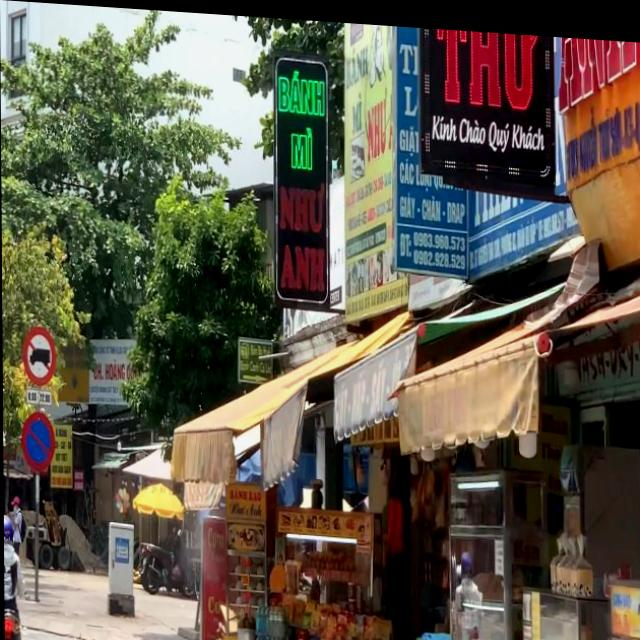Cam do xe: (22, 413, 56, 471)
Cam xe tai: (24, 326, 54, 384)
